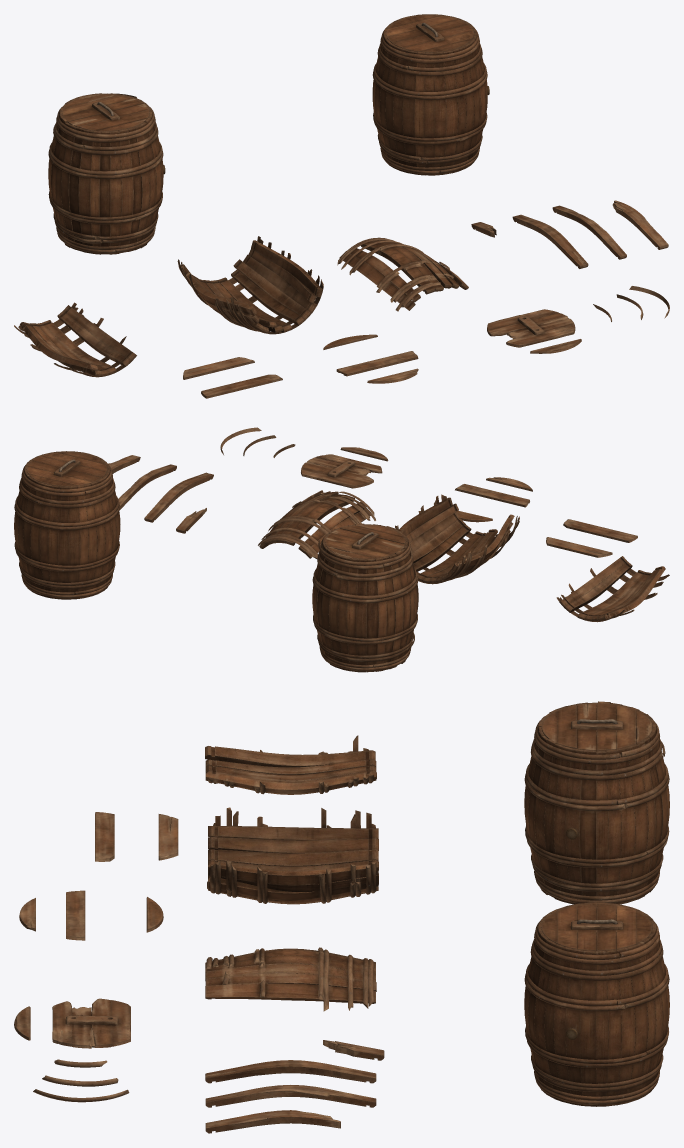
Rendered from wooden_barrels_01.gltf.
3 views of the same model, one above another, from view 1: azimuth 30°, elevation 25°; view 2: azimuth 150°, elevation 25°; view 3: azimuth 270°, elevation 25° (orthographic). The views are drawn at different scales.
Visible parts, largest first — view 1: wooden_barrels_01_barrel02, wooden_barrels_01_barrel01, wooden_barrels_01_piece01, wooden_barrels_01_piece03, wooden_barrels_01_piece02, wooden_barrels_01_piece08, wooden_barrels_01_piece04, wooden_barrels_01_piece05, wooden_barrels_01_piece06, wooden_barrels_01_piece11, wooden_barrels_01_piece14, wooden_barrels_01_piece13; view 2: wooden_barrels_01_barrel02, wooden_barrels_01_barrel01, wooden_barrels_01_piece01, wooden_barrels_01_piece03, wooden_barrels_01_piece02, wooden_barrels_01_piece08, wooden_barrels_01_piece04, wooden_barrels_01_piece14, wooden_barrels_01_piece11, wooden_barrels_01_piece05, wooden_barrels_01_piece13; view 3: wooden_barrels_01_barrel01, wooden_barrels_01_barrel02, wooden_barrels_01_piece01, wooden_barrels_01_piece03, wooden_barrels_01_piece02, wooden_barrels_01_piece08, wooden_barrels_01_piece04, wooden_barrels_01_piece05, wooden_barrels_01_piece06, wooden_barrels_01_piece11, wooden_barrels_01_piece14, wooden_barrels_01_piece13 (+1 smaller).
Part boxes in pixels (bbox=[...]): wooden_barrels_01_barrel02: bbox=[48, 93, 165, 254]; wooden_barrels_01_barrel01: bbox=[372, 14, 489, 175]; wooden_barrels_01_piece01: bbox=[177, 236, 323, 334]; wooden_barrels_01_piece03: bbox=[337, 237, 468, 311]; wooden_barrels_01_piece02: bbox=[14, 302, 136, 377]; wooden_barrels_01_piece08: bbox=[487, 309, 575, 347]; wooden_barrels_01_piece04: bbox=[512, 214, 588, 268]; wooden_barrels_01_piece05: bbox=[552, 205, 626, 259]; wooden_barrels_01_piece06: bbox=[612, 200, 668, 249]; wooden_barrels_01_piece11: bbox=[336, 351, 418, 376]; wooden_barrels_01_piece14: bbox=[201, 374, 282, 398]; wooden_barrels_01_piece13: bbox=[183, 357, 254, 379]; wooden_barrels_01_barrel02: bbox=[312, 523, 418, 672]; wooden_barrels_01_barrel01: bbox=[14, 451, 120, 599]; wooden_barrels_01_piece01: bbox=[395, 494, 519, 584]; wooden_barrels_01_piece03: bbox=[258, 490, 375, 558]; wooden_barrels_01_piece02: bbox=[556, 556, 669, 622]; wooden_barrels_01_piece08: bbox=[301, 454, 382, 488]; wooden_barrels_01_piece04: bbox=[144, 472, 213, 522]; wooden_barrels_01_piece14: bbox=[563, 519, 637, 542]; wooden_barrels_01_piece11: bbox=[455, 484, 529, 507]; wooden_barrels_01_piece05: bbox=[118, 464, 176, 510]; wooden_barrels_01_piece13: bbox=[546, 537, 612, 557]; wooden_barrels_01_barrel01: bbox=[524, 902, 669, 1106]; wooden_barrels_01_barrel02: bbox=[524, 701, 669, 904]; wooden_barrels_01_piece01: bbox=[207, 807, 378, 904]; wooden_barrels_01_piece03: bbox=[205, 947, 376, 1011]; wooden_barrels_01_piece02: bbox=[205, 735, 376, 794]; wooden_barrels_01_piece08: bbox=[52, 998, 130, 1048]; wooden_barrels_01_piece04: bbox=[205, 1060, 376, 1083]; wooden_barrels_01_piece05: bbox=[205, 1085, 376, 1107]; wooden_barrels_01_piece06: bbox=[205, 1110, 340, 1133]; wooden_barrels_01_piece11: bbox=[66, 890, 85, 940]; wooden_barrels_01_piece14: bbox=[95, 812, 114, 861]; wooden_barrels_01_piece13: bbox=[158, 814, 178, 860].
Size of the model in its own units: 4.44 by 0.9567 by 3.34.
3 materials, 3 textured.
